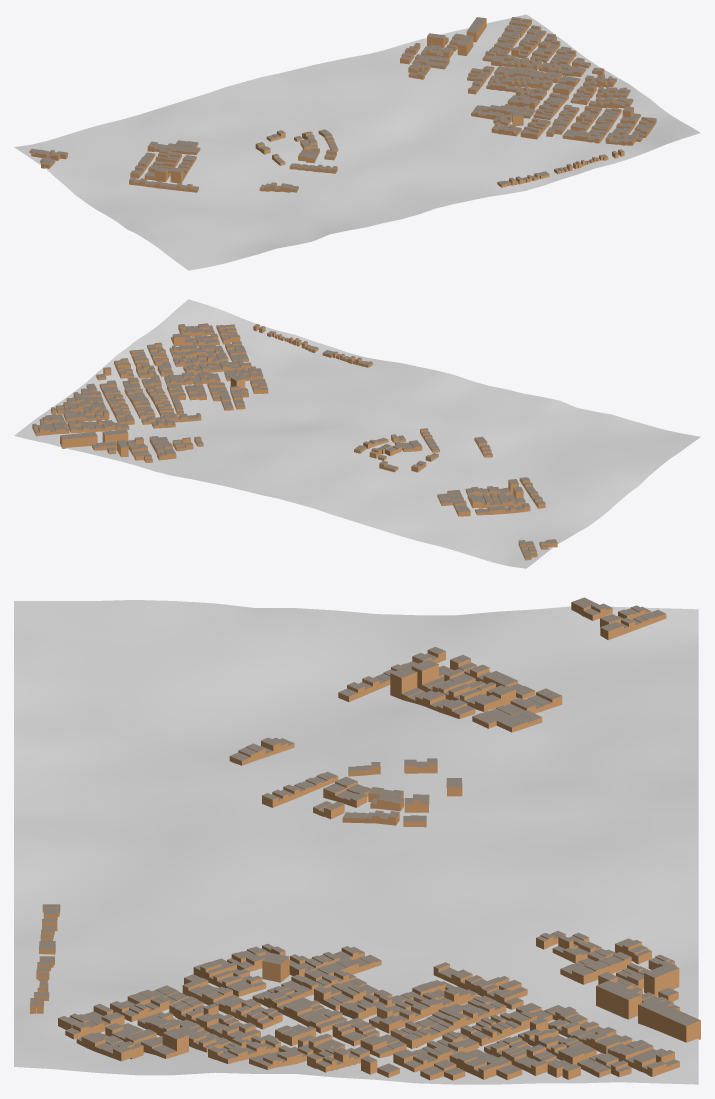
The model's file is map.dae.
The picture shows the model from 3 angles, top to bottom: view 1: azimuth 30°, elevation 25°; view 2: azimuth 150°, elevation 25°; view 3: azimuth 270°, elevation 25°; orthographic projection. The views are drawn at different scales.
Visible parts, largest first — view 1: Terrain, map_14.osm_buildings_col; view 2: Terrain, map_14.osm_buildings_col; view 3: Terrain, map_14.osm_buildings_col.
Boxes of the visible parts, x1,y1,x2,y2 form: Terrain: (14,14,700,270); map_14.osm_buildings_col: (29,17,656,192); Terrain: (14,299,700,568); map_14.osm_buildings_col: (32,323,557,560); Terrain: (14,600,698,1084); map_14.osm_buildings_col: (30,597,700,1080).
Bounding box in the file's own units: 895 × 527 × 35.5.
